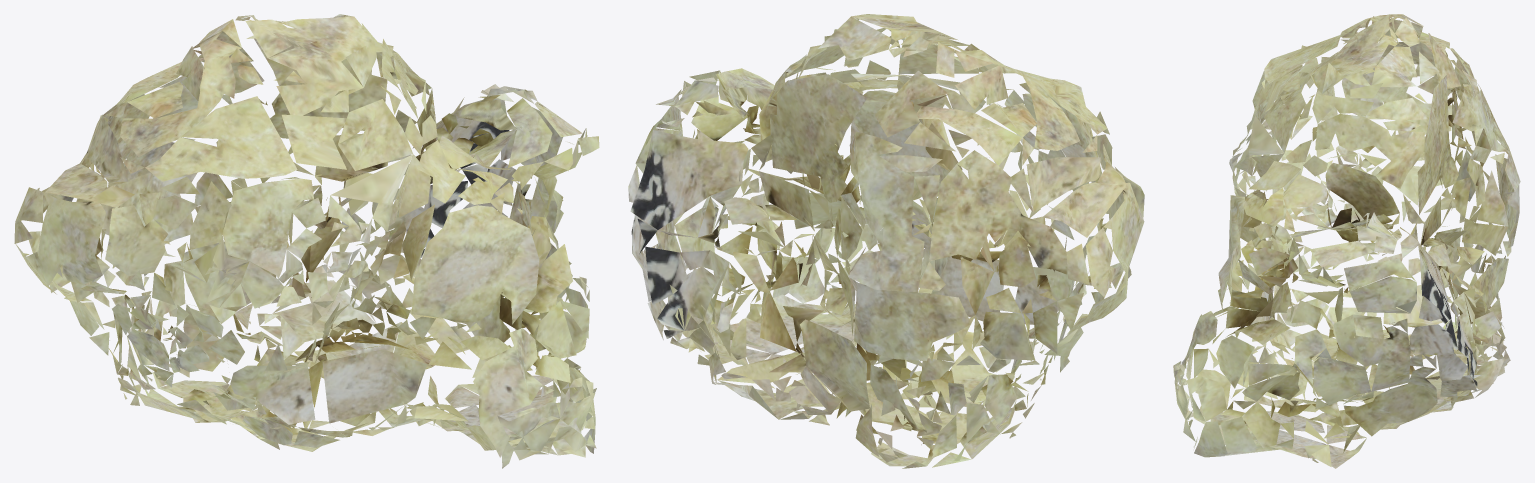
The model's file is sulfur_rock.glb.
3 renders of one model, left to right at view 1: azimuth 30°, elevation 25°; view 2: azimuth 150°, elevation 25°; view 3: azimuth 270°, elevation 25°, orthographic. The views are drawn at different scales.
Visible parts, largest first — view 1: Object_2, Object_3; view 2: Object_2, Object_3; view 3: Object_3, Object_2.
Boxes of the visible parts, x1,y1,x2,y2 form: Object_2: (21, 14, 595, 468); Object_3: (14, 19, 599, 457); Object_2: (630, 14, 1144, 467); Object_3: (628, 28, 1144, 468); Object_3: (1178, 14, 1520, 468); Object_2: (1173, 14, 1511, 466).
Size of the model in its own units: 0.3767 by 0.2896 by 0.2614.
1 material, 1 textured.
